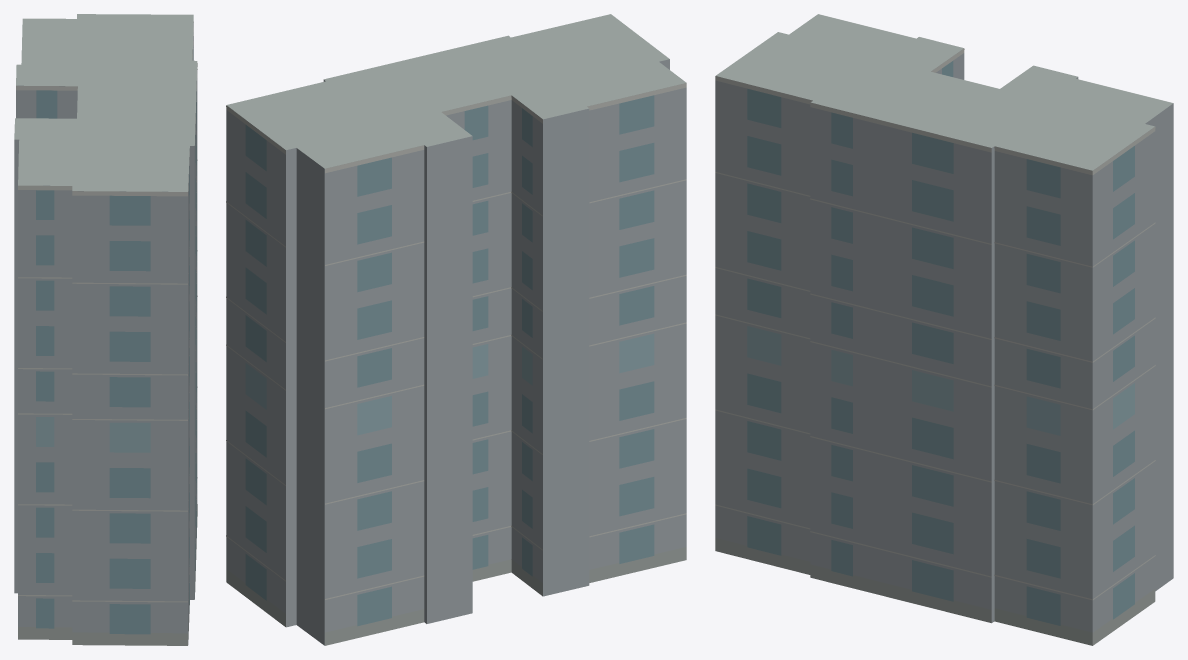
The model's file is survey-upis-33016849.glb.
The picture shows the model from 3 angles, left to right: view 1: azimuth 30°, elevation 25°; view 2: azimuth 150°, elevation 25°; view 3: azimuth 270°, elevation 25°; orthographic projection. The views are drawn at different scales.
Parts seen in each view (by area): view 1: survey-upis-33016849.tmp; view 2: survey-upis-33016849.tmp; view 3: survey-upis-33016849.tmp.
Part boxes in pixels (x1,y1,x2,y2): survey-upis-33016849.tmp: (14,14,197,645); survey-upis-33016849.tmp: (226,14,686,645); survey-upis-33016849.tmp: (715,14,1173,645).
Bounding box in the file's own units: 17.64 × 24.9 × 21.78.
